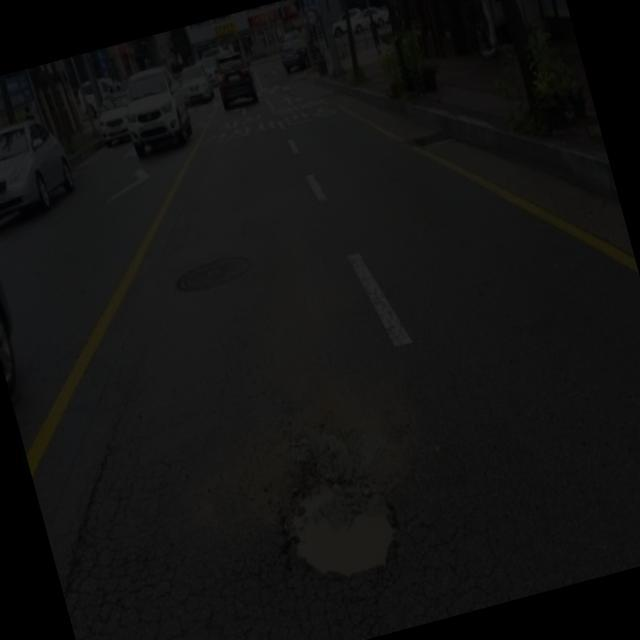pothole: (248, 418, 426, 612)
